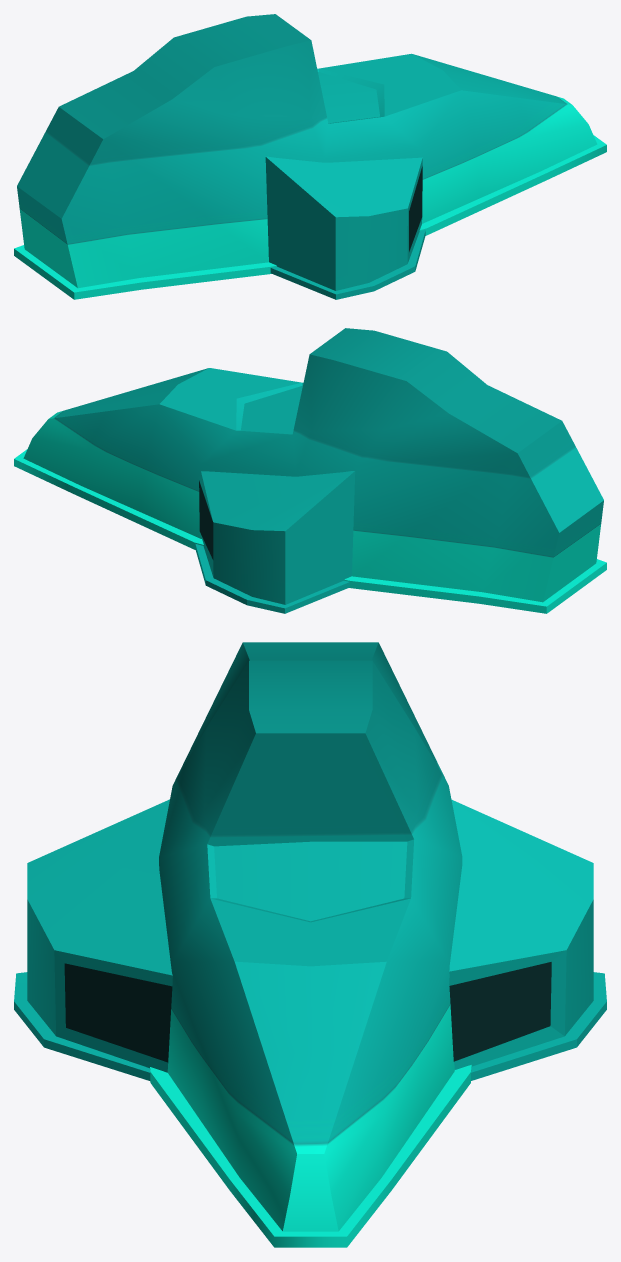
Rendered from IceDruid_Body.FBX.
The picture shows the model from 3 angles, top to bottom: view 1: azimuth 30°, elevation 25°; view 2: azimuth 150°, elevation 25°; view 3: azimuth 270°, elevation 25°; orthographic projection. The views are drawn at different scales.
Visible parts, largest first — view 1: IceDruid_Body; view 2: IceDruid_Body; view 3: IceDruid_Body.
Boxes of the visible parts, x1,y1,x2,y2 form: IceDruid_Body: (14,14,606,299); IceDruid_Body: (14,328,606,613); IceDruid_Body: (14,642,606,1247).
Size of the model in its own units: 220 by 72.69 by 133.
